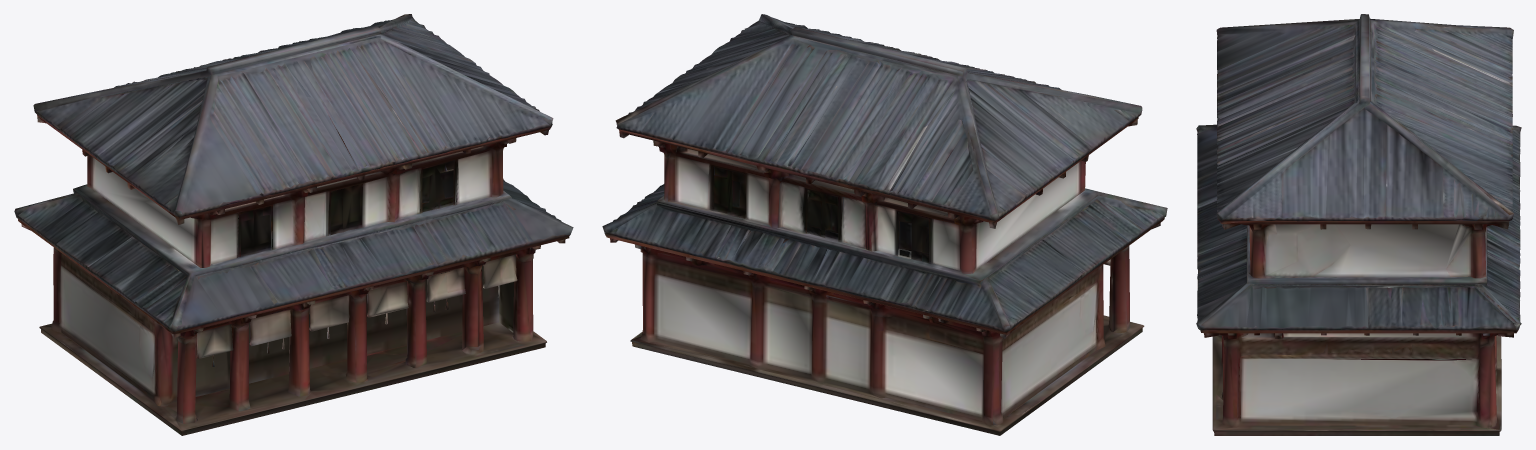
The model's file is hall2_lod1.glb.
3 views of the same model, side by side, from view 1: azimuth 30°, elevation 25°; view 2: azimuth 150°, elevation 25°; view 3: azimuth 270°, elevation 25° (orthographic).
Visible parts, largest first — view 1: node_0; view 2: node_0; view 3: node_0.
Part boxes in pixels (x1,y1,x2,y2): node_0: (14,14,573,435); node_0: (602,14,1167,435); node_0: (1196,14,1521,435).
Size of the model in its own units: 0.9281 by 0.6356 by 0.6414.
1 material, 1 textured.
